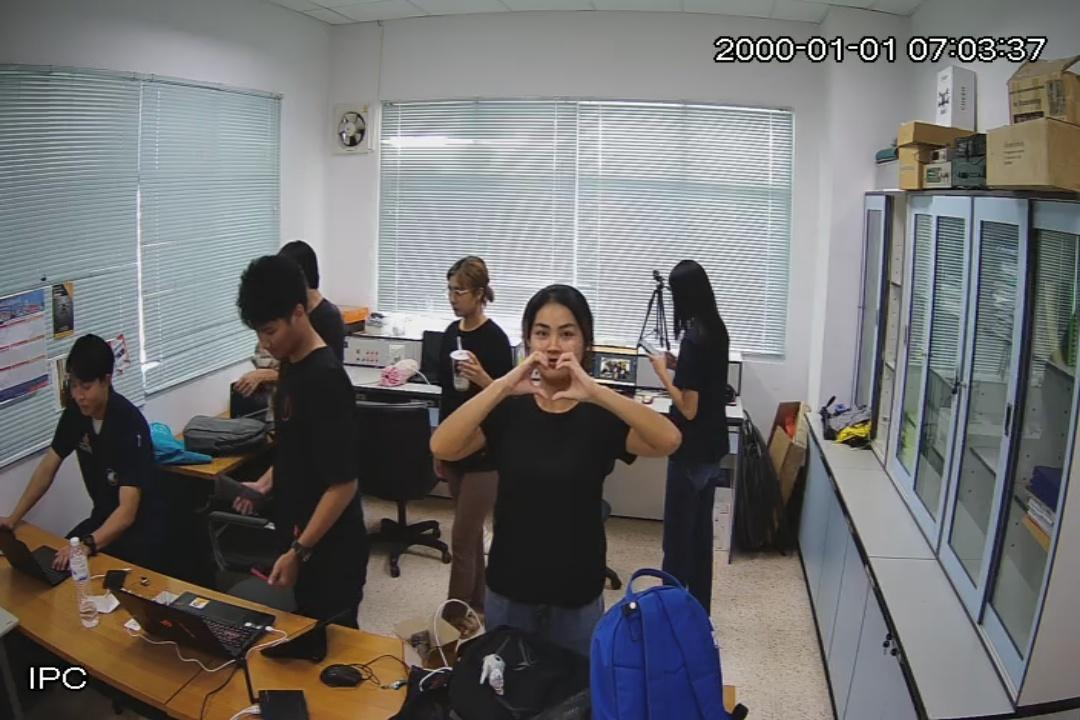normal: (431, 281, 683, 712), (232, 250, 370, 618), (42, 330, 184, 582), (420, 256, 510, 650), (654, 248, 736, 646)
